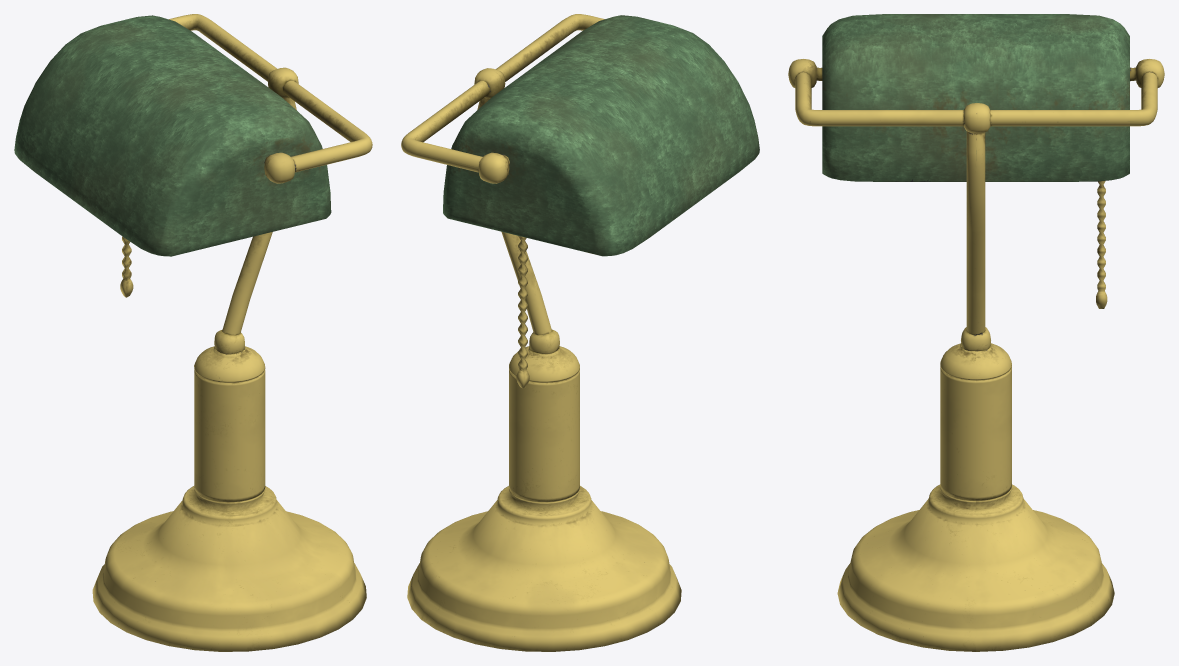
The model's file is lampara.obj.
3 views of the same model, side by side, from view 1: azimuth 30°, elevation 25°; view 2: azimuth 150°, elevation 25°; view 3: azimuth 270°, elevation 25° (orthographic).
Parts seen in each view (by area): view 1: LampDeskGreen.001_LampDeskGreen; view 2: LampDeskGreen.001_LampDeskGreen; view 3: LampDeskGreen.001_LampDeskGreen.
Part boxes in pixels (x1,y1,x2,y2): LampDeskGreen.001_LampDeskGreen: (14,14,372,651); LampDeskGreen.001_LampDeskGreen: (401,14,759,651); LampDeskGreen.001_LampDeskGreen: (788,14,1164,651).
Bounding box in the file's own units: 6.41 × 12.22 × 7.68.
